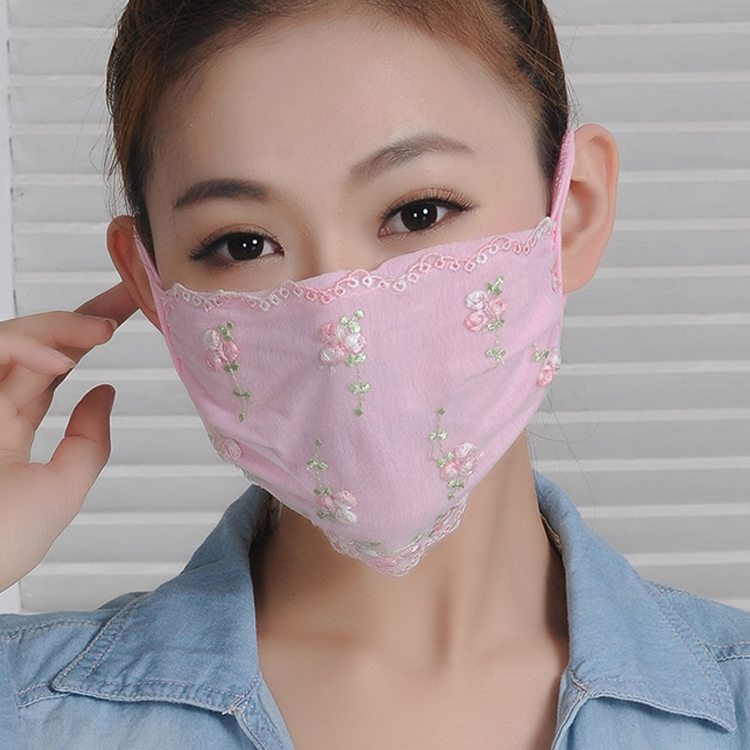face_mask: (153, 6, 544, 546)
